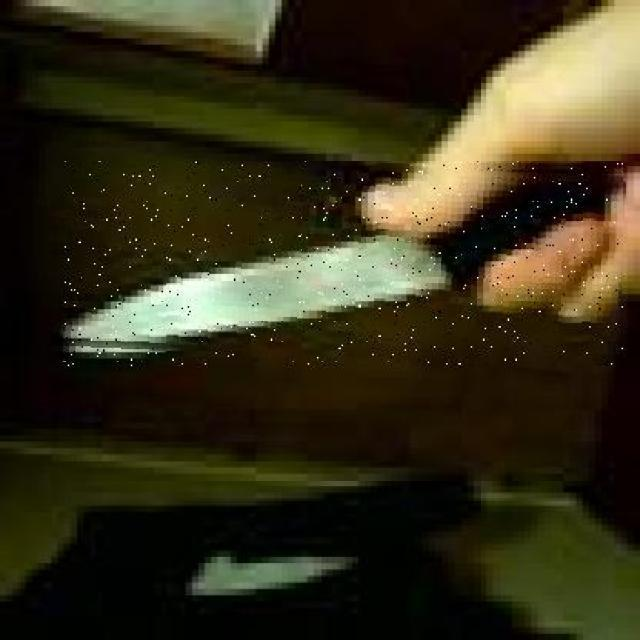knife: (63, 160, 623, 366)
